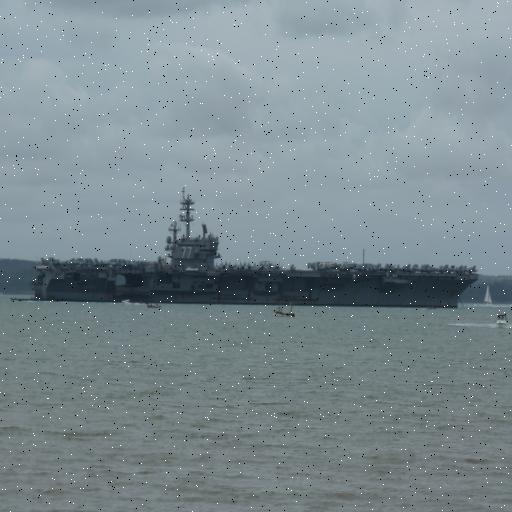Portanaves: (29, 190, 485, 312)
